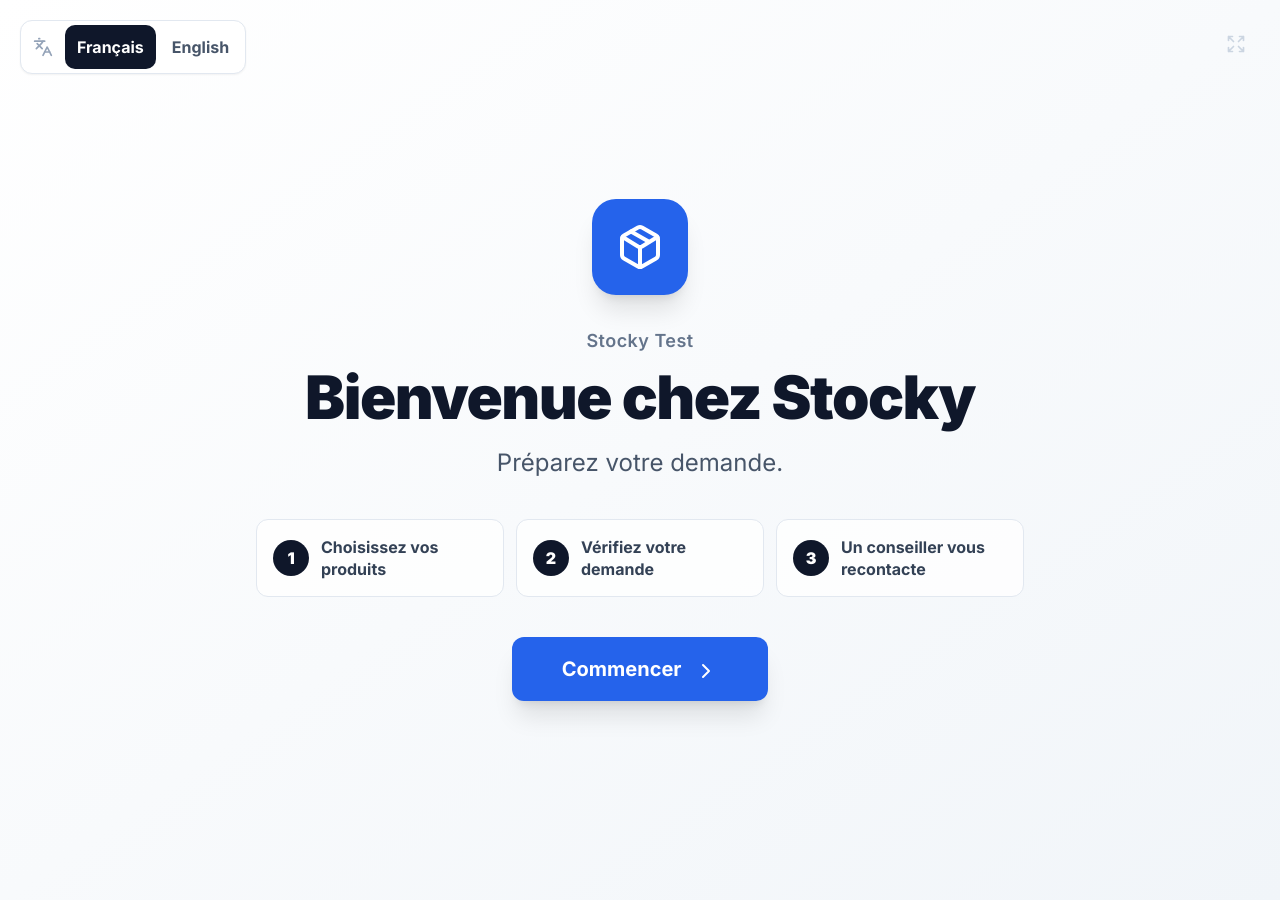
Test: KioskPage › hides the "details later" option when the kiosk requires contact details
expect the heading "Bienvenue chez Stocky" is shown: met, box 305,367 -> 975,427
Click the button "Commencer".
click(640, 669)  # box 512,637 -> 768,701
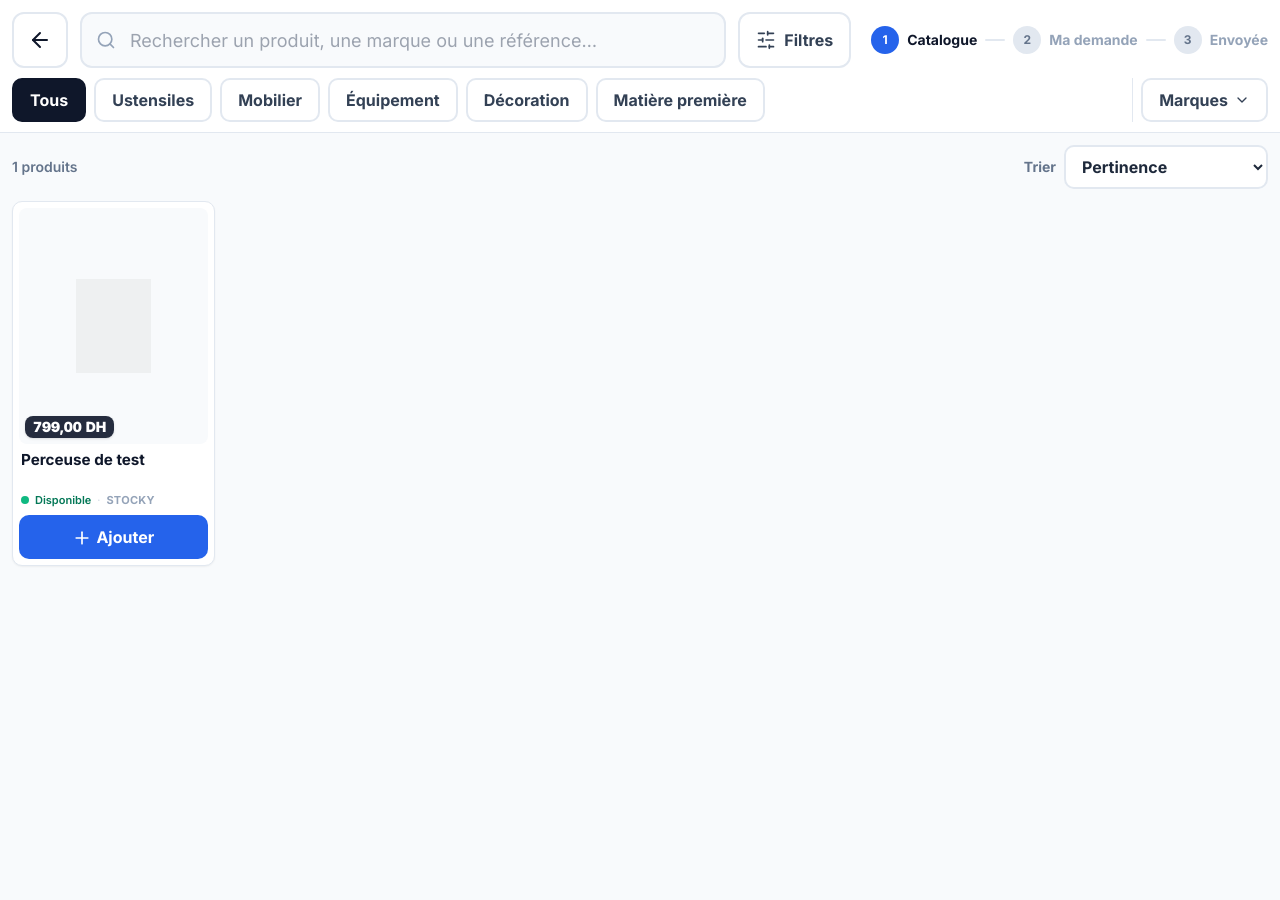
expect the heading "Perceuse de test" is shown: met, box 21,450 -> 145,469
Click the button "Ajouter".
click(113, 537)  # box 19,515 -> 208,559
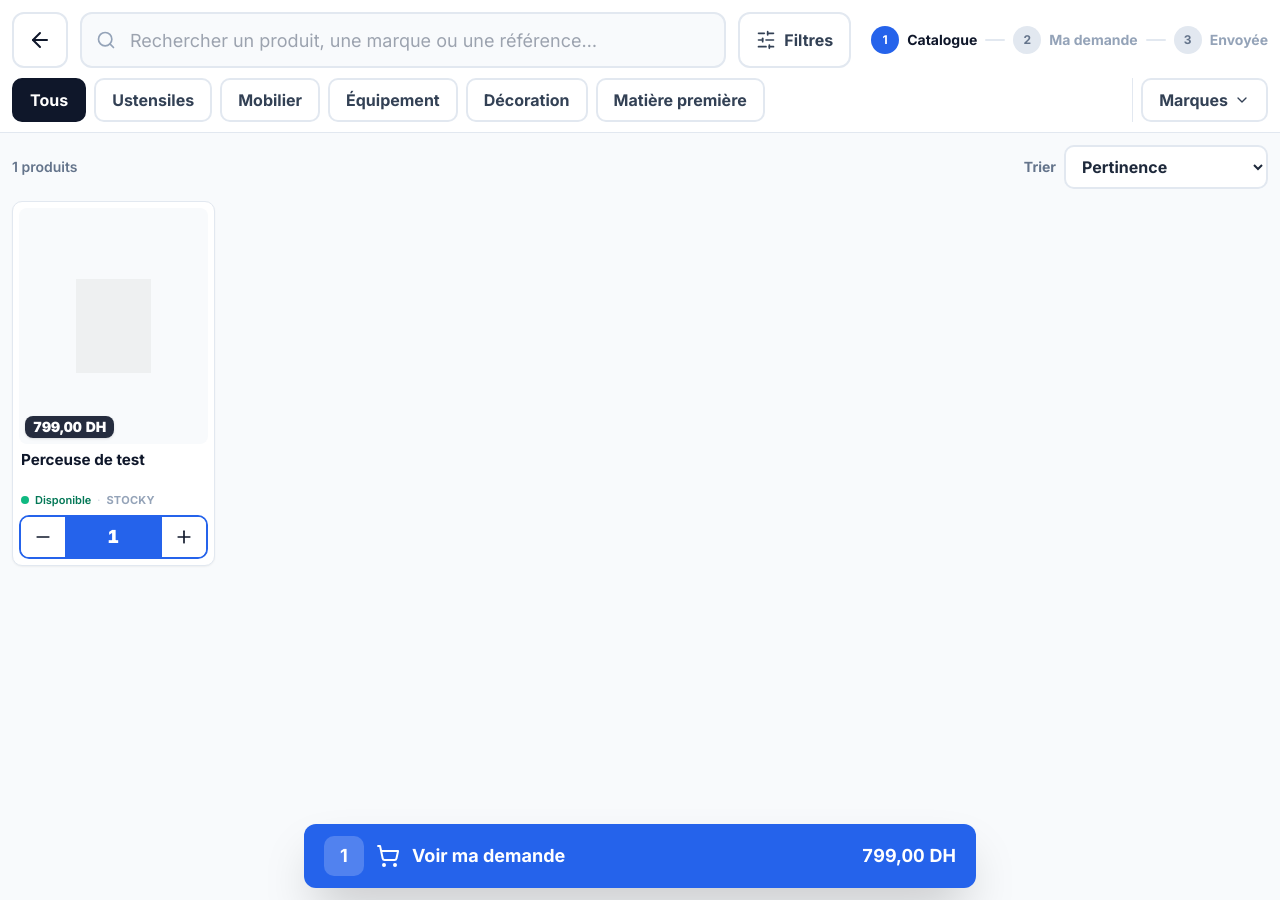
Click the button "1 Voir ma demande 799,00 DH".
click(344, 856)  # box 304,824 -> 976,888
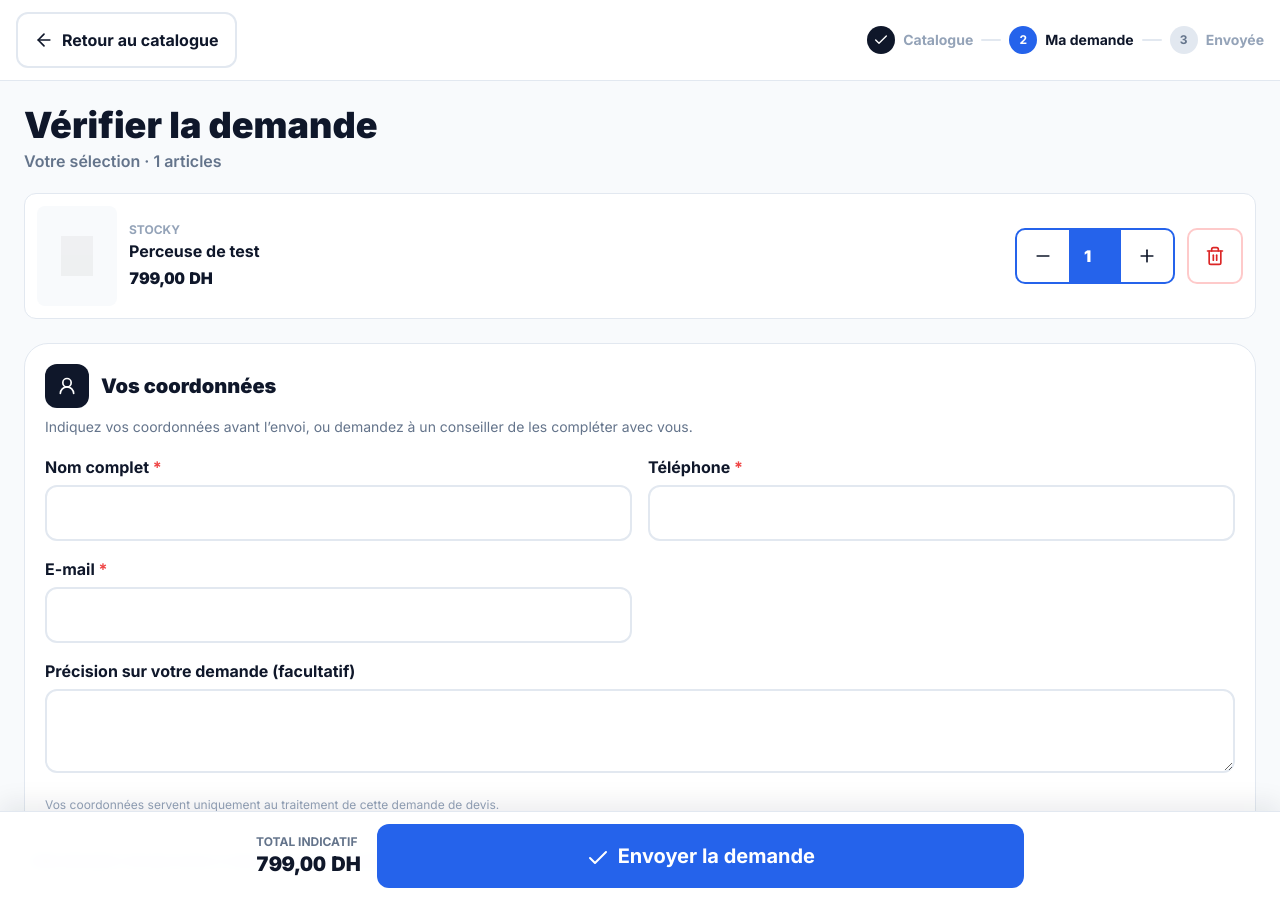
expect the heading "Vérifier la demande" is shown: met, box 24,103 -> 378,147
expect the text "Nom complet" is shown: met, box 45,457 -> 149,477
